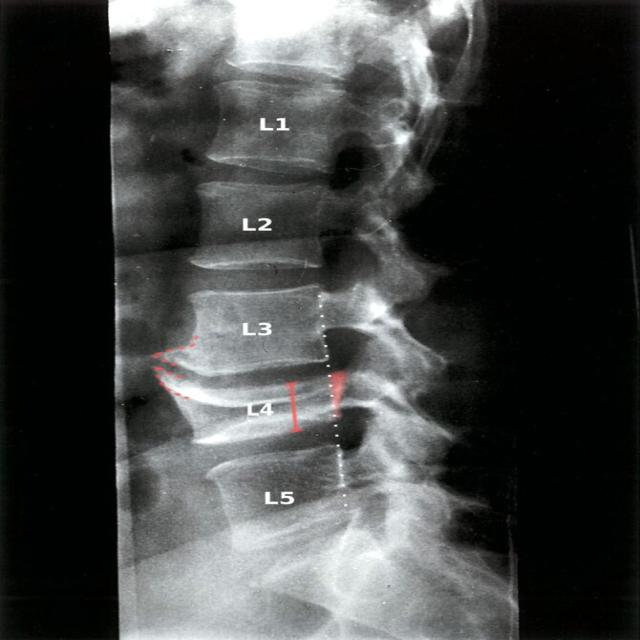fracture: (124, 311, 384, 494)
